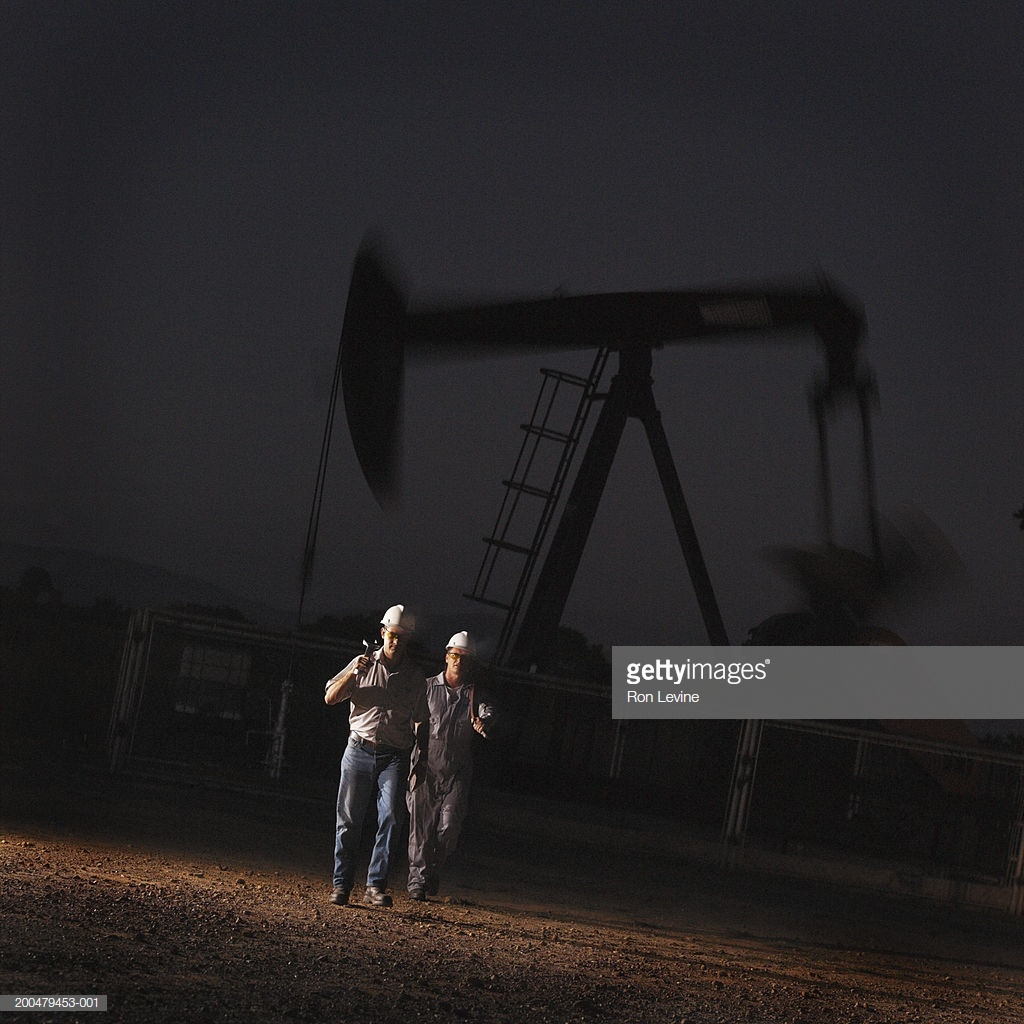white: (378, 604, 415, 656), (443, 630, 477, 678)
